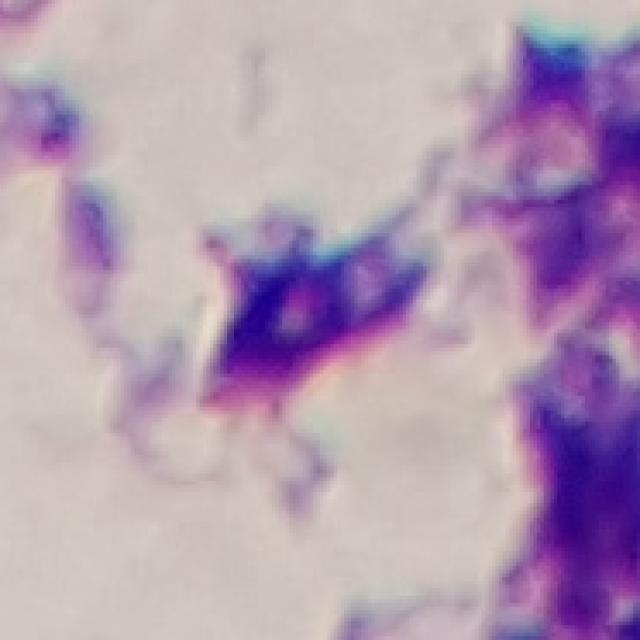non-sperm: (200, 221, 429, 416)
